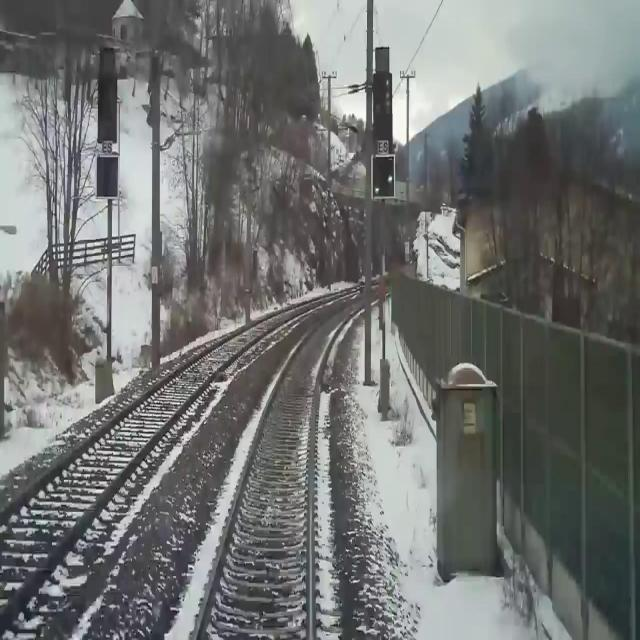rail-track: (0, 286, 358, 610), (196, 299, 364, 639)
